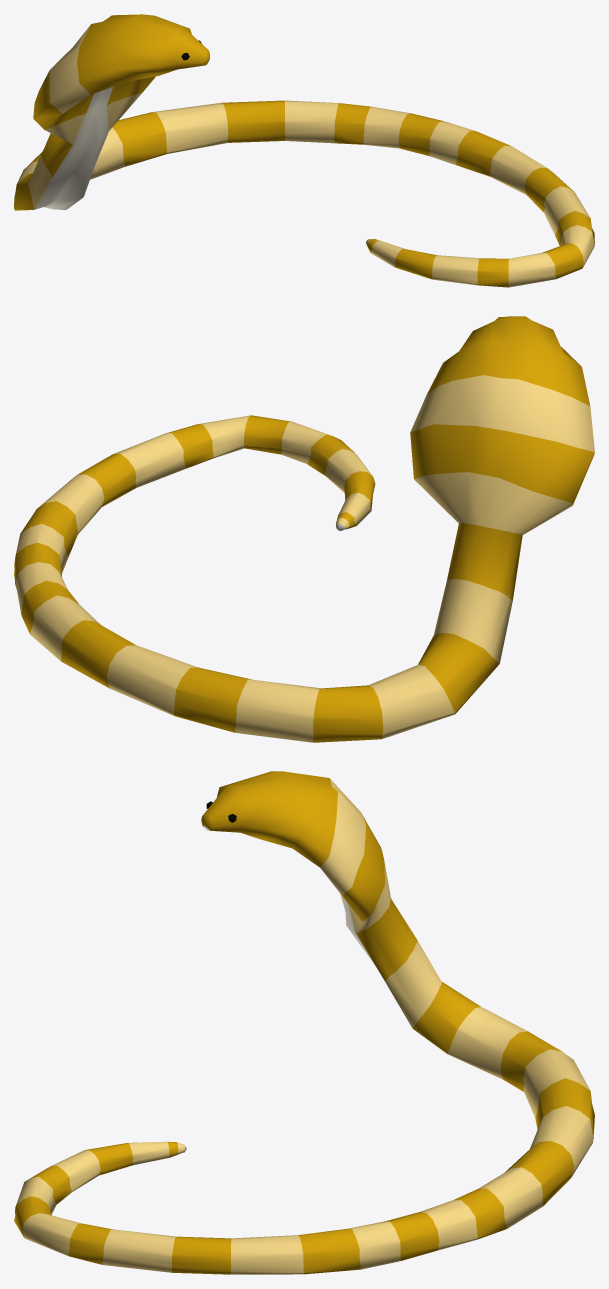
Rendered from 9e39ca57-8bac-4647-906c-6f974783693c.glb.
3 renders of one model, top to bottom at view 1: azimuth 30°, elevation 25°; view 2: azimuth 150°, elevation 25°; view 3: azimuth 270°, elevation 25°, orthographic. The views are drawn at different scales.
Parts seen in each view (by area): view 1: Platonic.2; view 2: Platonic.2; view 3: Platonic.2.
Part boxes in pixels (bbox=[...]): Platonic.2: bbox=[14, 14, 594, 287]; Platonic.2: bbox=[14, 316, 594, 742]; Platonic.2: bbox=[14, 771, 594, 1274].
Bounding box in the file's own units: 886 × 453 × 832.
